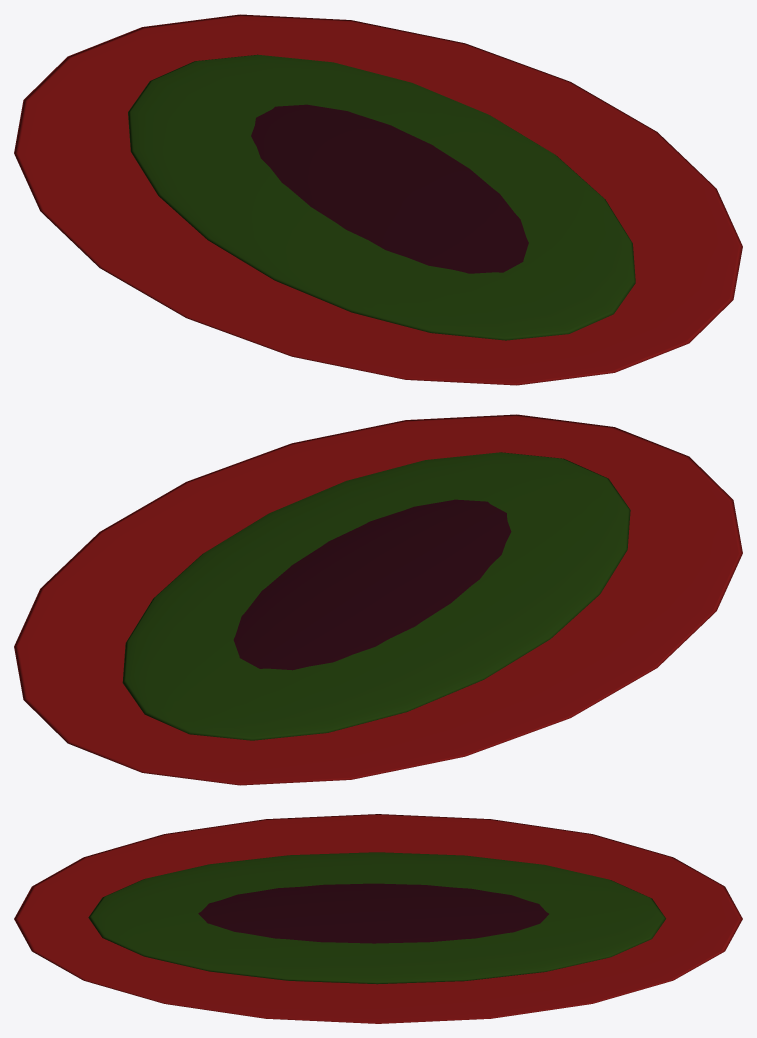
The model's file is alfombra1.obj.
The picture shows the model from 3 angles, top to bottom: view 1: azimuth 30°, elevation 25°; view 2: azimuth 150°, elevation 25°; view 3: azimuth 270°, elevation 25°; orthographic projection. The views are drawn at different scales.
Visible parts, largest first — view 1: alfombra:pSphere1, alfombra:pSphere2, alfombra:pSphere3; view 2: alfombra:pSphere1, alfombra:pSphere2, alfombra:pSphere3; view 3: alfombra:pSphere1, alfombra:pSphere2, alfombra:pSphere3.
Boxes of the visible parts, x1=… form: alfombra:pSphere1: x1=14, y1=14, x2=742, y2=385; alfombra:pSphere2: x1=128, y1=54, x2=635, y2=340; alfombra:pSphere3: x1=251, y1=104, x2=528, y2=273; alfombra:pSphere1: x1=14, y1=414, x2=742, y2=785; alfombra:pSphere2: x1=122, y1=452, x2=630, y2=740; alfombra:pSphere3: x1=233, y1=499, x2=511, y2=670; alfombra:pSphere1: x1=14, y1=814, x2=742, y2=1023; alfombra:pSphere2: x1=88, y1=852, x2=665, y2=984; alfombra:pSphere3: x1=198, y1=883, x2=548, y2=943.
Bounding box in the file's own units: 2.39 × 0.0982 × 3.5.
Materials: 3 (3 with a texture image).
